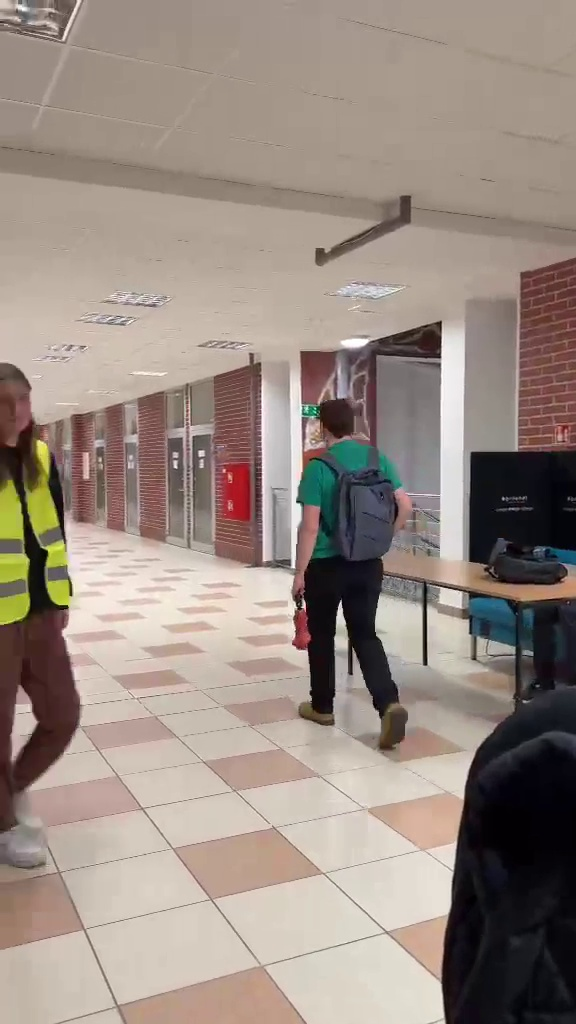no vest: (281, 390, 428, 741)
vest: (0, 353, 91, 863)
